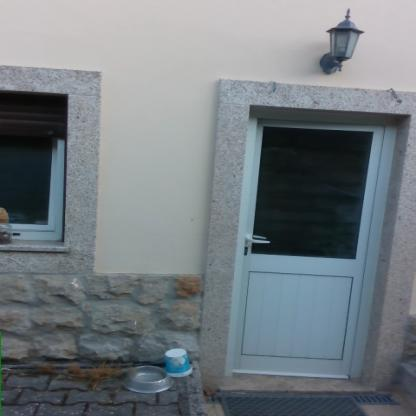closed: (214, 91, 411, 404)
